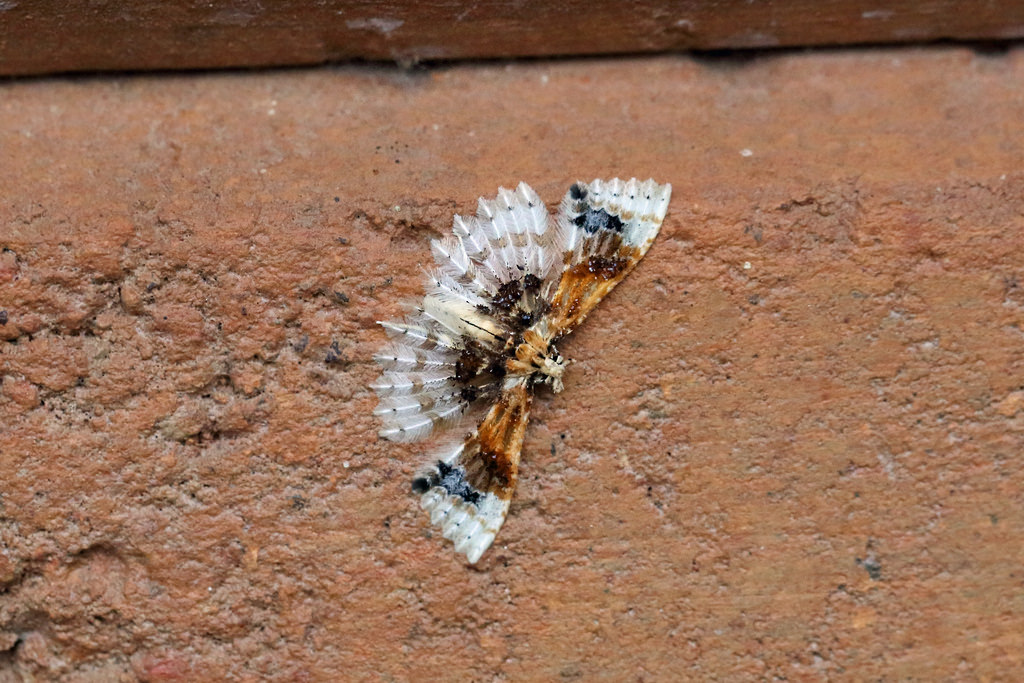Alucitidae: (368, 166, 680, 576)
moth: (370, 168, 682, 578)
